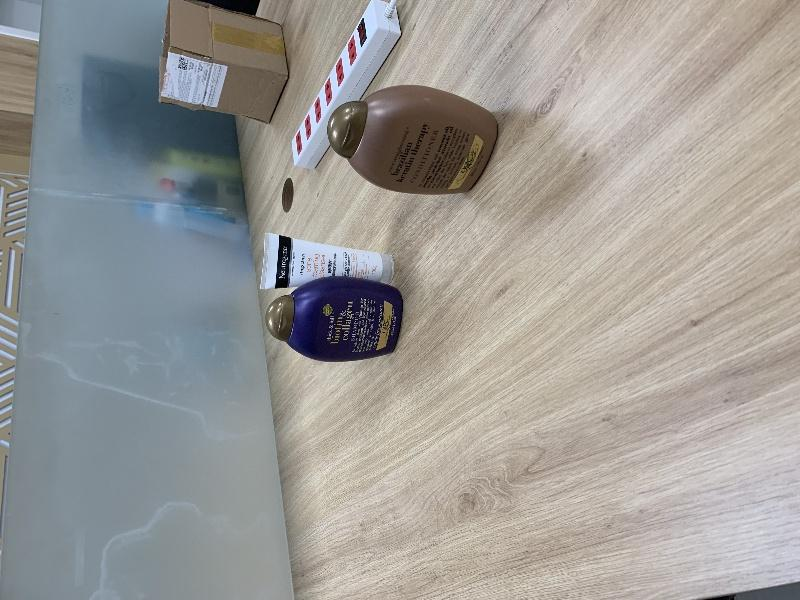AcneFoamingCleanser: (263, 232, 394, 289)
BiotinCollagen_Shampoo: (265, 276, 404, 361)
BrazilianKerationTherapy_Conditioner: (327, 85, 498, 195)
